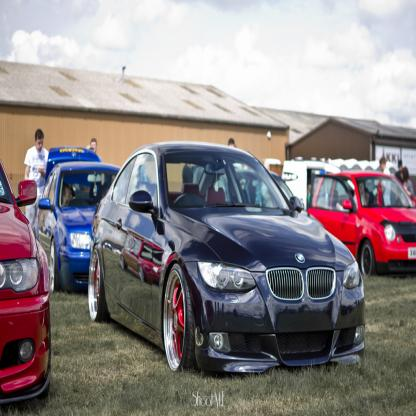Car: (1, 142, 416, 408)
